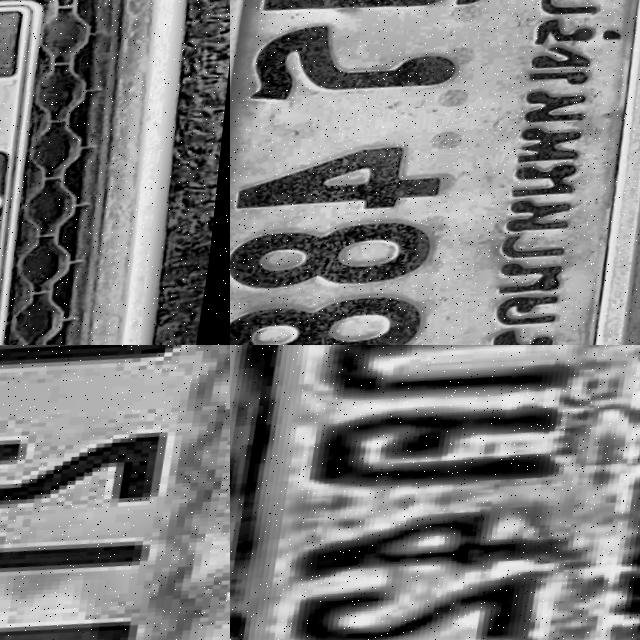license-plate: (230, 0, 640, 345), (230, 345, 640, 640), (0, 345, 230, 640), (0, 0, 104, 345)
